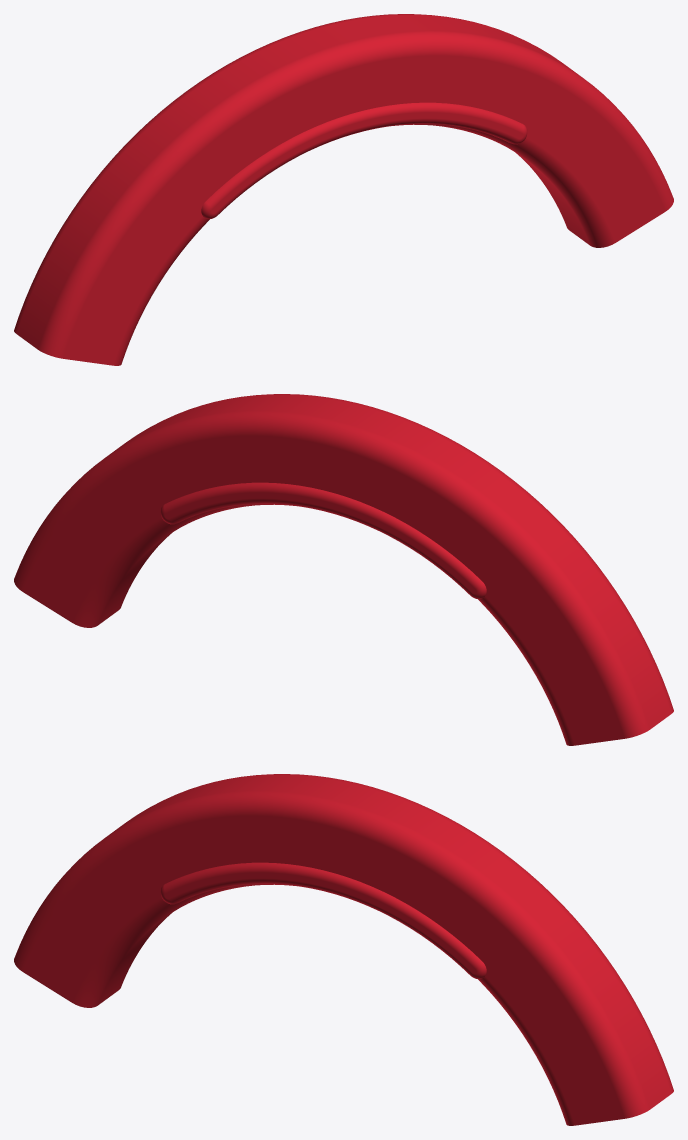
File: FG_ArchRed.fbx
3 views of the same model, one above another, from view 1: azimuth 30°, elevation 25°; view 2: azimuth 150°, elevation 25°; view 3: azimuth 330°, elevation 25° (orthographic).
Visible parts, largest first — view 1: FG_ArchRed; view 2: FG_ArchRed; view 3: FG_ArchRed.
Boxes of the visible parts, <box> form: FG_ArchRed: <box>14,14,673,365</box>; FG_ArchRed: <box>14,394,673,745</box>; FG_ArchRed: <box>14,774,673,1125</box>.
Bounding box in the file's own units: 23.49 × 9.32 × 3.
